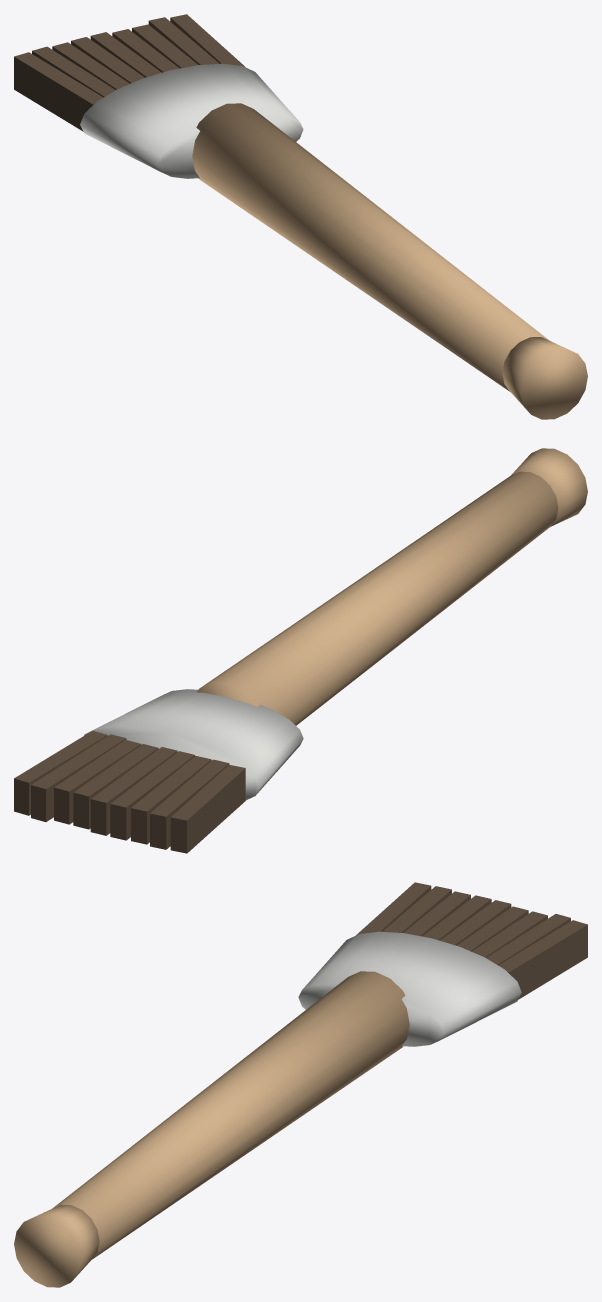
File: brush.glb
3 views of the same model, one above another, from view 1: azimuth 30°, elevation 25°; view 2: azimuth 150°, elevation 25°; view 3: azimuth 330°, elevation 25° (orthographic).
Parts seen in each view (by area): view 1: brush; view 2: brush; view 3: brush.
Boxes of the visible parts, x1,y1,x2,y2 form: brush: (14, 14, 587, 419); brush: (14, 448, 587, 853); brush: (14, 882, 587, 1287).
Bounding box in the file's own units: 0.0512 × 0.022 × 0.2258.
